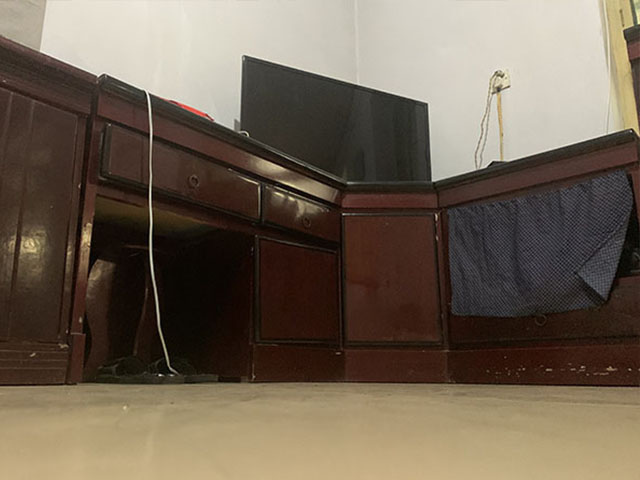cabinet: (1, 32, 352, 389), (347, 126, 640, 390)
slippers: (92, 353, 221, 385)
wire: (144, 88, 182, 379)
